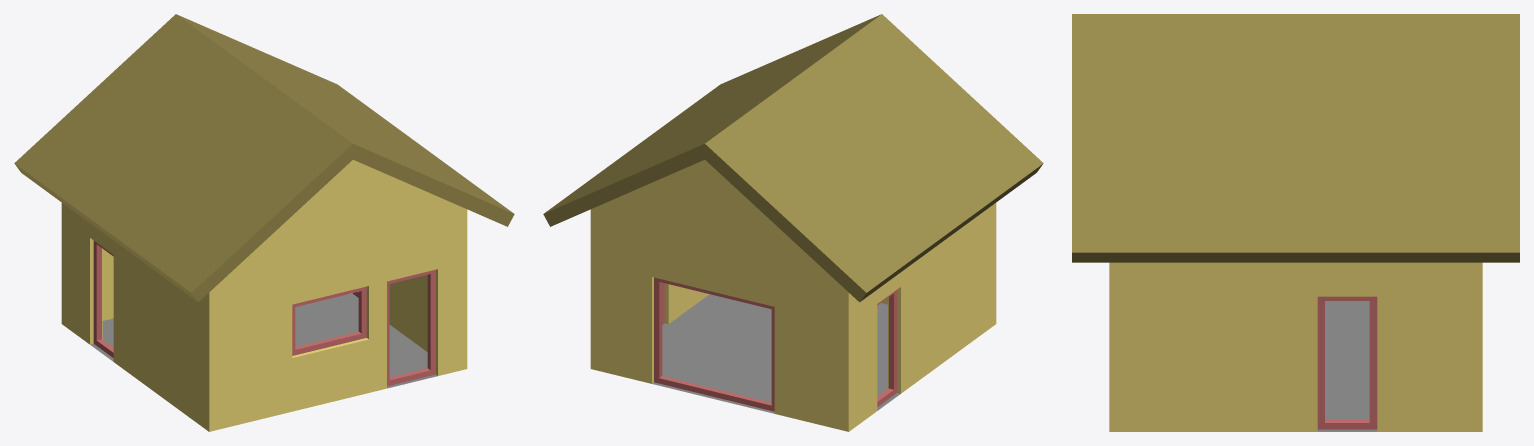
The model's file is result.glb.
3 views of the same model, side by side, from view 1: azimuth 30°, elevation 25°; view 2: azimuth 150°, elevation 25°; view 3: azimuth 270°, elevation 25° (orthographic). The views are drawn at different scales.
Visible parts, largest first — view 1: 1fa75771-eb16-45bf-9329-147da3017961__undefined (×2), f4d2bc60-bbf4-4274-bfa1-1d5a95f45c1a__undefined, 9437960c-72d1-478b-b285-8a1721a2946f__Plane_6, 22f6cf91-a327-4dc6-ba07-a2596472195a__Box, 81330128-8955-4613-95ee-d10dba178411__Box_3, 9ce56b5d-f0e9-4fe3-be03-ac9df6b53b45__Box_12; view 2: 1fa75771-eb16-45bf-9329-147da3017961__undefined (×2), f4d2bc60-bbf4-4274-bfa1-1d5a95f45c1a__undefined, 9437960c-72d1-478b-b285-8a1721a2946f__Plane_6, a05c12e8-0d7a-45a5-8403-75136b686712__Box_9, 9ce56b5d-f0e9-4fe3-be03-ac9df6b53b45__Box_12; view 3: 1fa75771-eb16-45bf-9329-147da3017961__undefined, f4d2bc60-bbf4-4274-bfa1-1d5a95f45c1a__undefined, 9437960c-72d1-478b-b285-8a1721a2946f__Plane_6, 09729edd-b7e2-4a13-96b0-9d072c40a5ac__Box_15.
Boxes of the visible parts, x1,y1,x2,y2 form: 1fa75771-eb16-45bf-9329-147da3017961__undefined (×2): (14,14,514,302); f4d2bc60-bbf4-4274-bfa1-1d5a95f45c1a__undefined: (61,159,467,431); 9437960c-72d1-478b-b285-8a1721a2946f__Plane_6: (90,293,437,388); 22f6cf91-a327-4dc6-ba07-a2596472195a__Box: (387,269,435,386); 81330128-8955-4613-95ee-d10dba178411__Box_3: (292,286,366,355); 9ce56b5d-f0e9-4fe3-be03-ac9df6b53b45__Box_12: (93,241,113,357); 1fa75771-eb16-45bf-9329-147da3017961__undefined (×2): (543,14,1043,302); f4d2bc60-bbf4-4274-bfa1-1d5a95f45c1a__undefined: (590,159,996,431); 9437960c-72d1-478b-b285-8a1721a2946f__Plane_6: (652,294,900,413); a05c12e8-0d7a-45a5-8403-75136b686712__Box_9: (654,277,774,411); 9ce56b5d-f0e9-4fe3-be03-ac9df6b53b45__Box_12: (877,290,896,406); 1fa75771-eb16-45bf-9329-147da3017961__undefined: (1072,14,1519,262); f4d2bc60-bbf4-4274-bfa1-1d5a95f45c1a__undefined: (1109,262,1482,431); 9437960c-72d1-478b-b285-8a1721a2946f__Plane_6: (1317,301,1377,431); 09729edd-b7e2-4a13-96b0-9d072c40a5ac__Box_15: (1317,296,1377,429).
Size of the model in its own units: 632 by 500 by 600.
